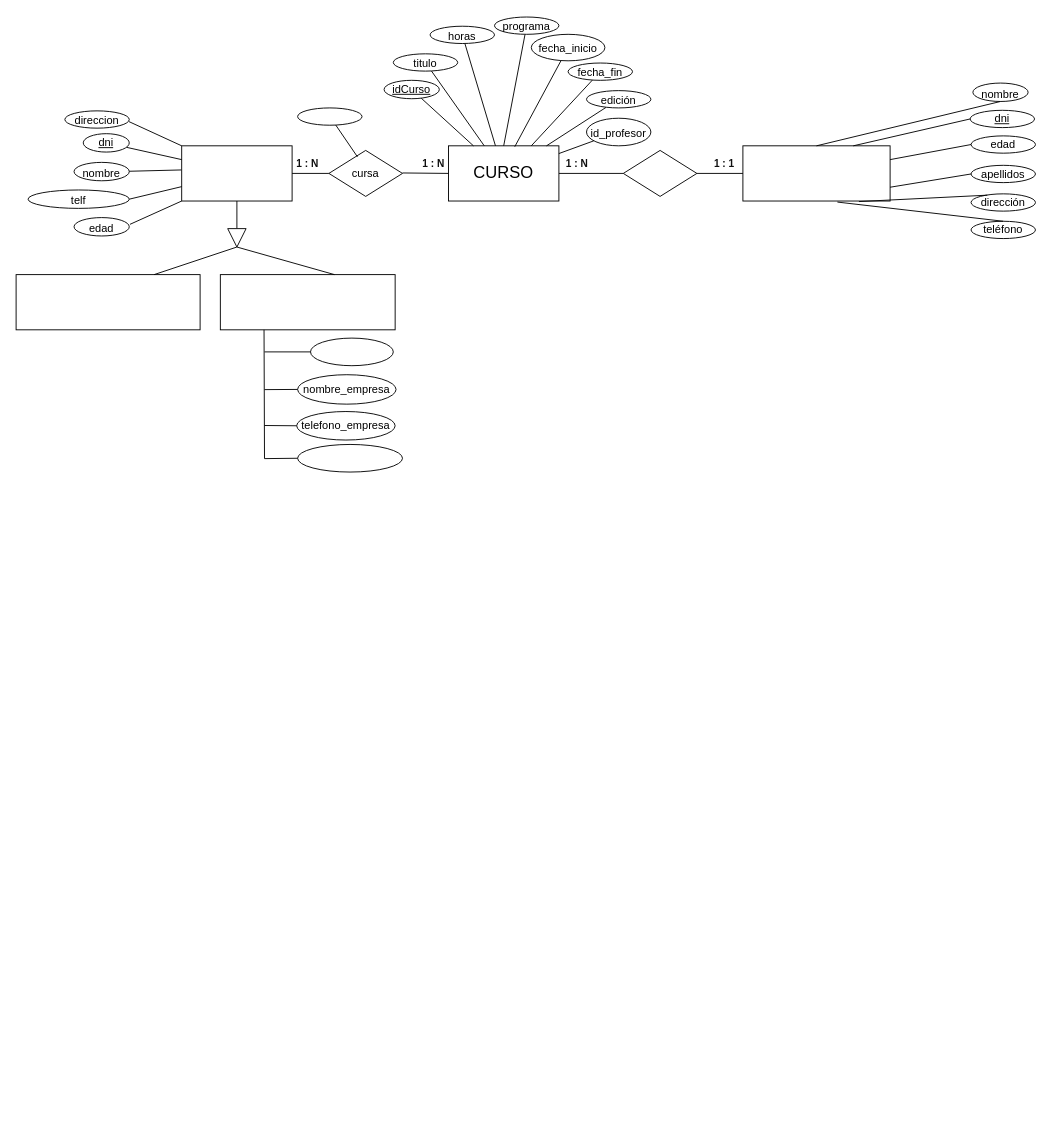
Image size: 1052x1144. Some labels were removed from this diagram. Here are the shapes that lost their labels. From the top down, the centre of each, then its label:
At (x=329, y=116): "nota".
At (x=236, y=173): "ALUMNO".
At (x=659, y=173): "imparte".
At (x=816, y=173): "PROFESOR".
At (x=107, y=302): "DESEMPLEADO".
At (x=307, y=302): "TRABAJADOR".
At (x=351, y=351): "cif".
At (x=349, y=458): "direccion_empresa".
